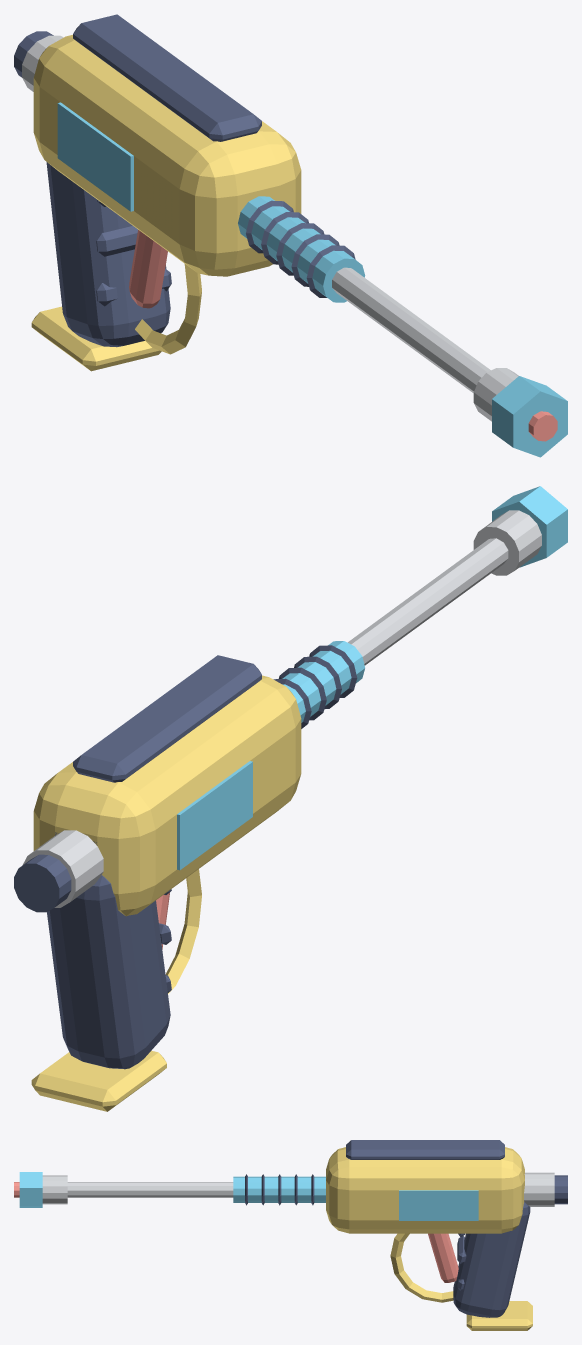
The model's file is T_pressure_washer_gun_v2.glb.
The picture shows the model from 3 angles, top to bottom: view 1: azimuth 30°, elevation 25°; view 2: azimuth 150°, elevation 25°; view 3: azimuth 270°, elevation 25°; orthographic projection. The views are drawn at different scales.
Visible parts, largest first — view 1: GunBody, Grip, Wand, Nozzle, Trigger, TriggerGuard, HoseConnector; view 2: GunBody, Grip, Wand, HoseConnector, Nozzle, TriggerGuard; view 3: GunBody, Grip, Wand, Nozzle, HoseConnector, TriggerGuard, Trigger.
Boxes of the visible parts, x1,y1,x2,y2 form: GunBody: (33,14,301,276); Grip: (31,162,171,371); Wand: (238,196,490,392); Nozzle: (473,368,567,457); Trigger: (129,230,167,308); TriggerGuard: (135,264,201,354); HoseConnector: (14,31,63,91); GunBody: (33,655,301,916); Grip: (31,875,171,1111); Wand: (273,538,508,728); HoseConnector: (14,830,103,912); Nozzle: (473,486,567,575); TriggerGuard: (165,869,201,993); GunBody: (326,1140,524,1233); Grip: (453,1202,532,1330); Wand: (67,1174,325,1205); Nozzle: (14,1172,67,1207); HoseConnector: (524,1172,567,1206); TriggerGuard: (390,1233,453,1302); Trigger: (428,1233,458,1282).
Size of the model in its own units: 0.116 by 0.295 by 0.836.
